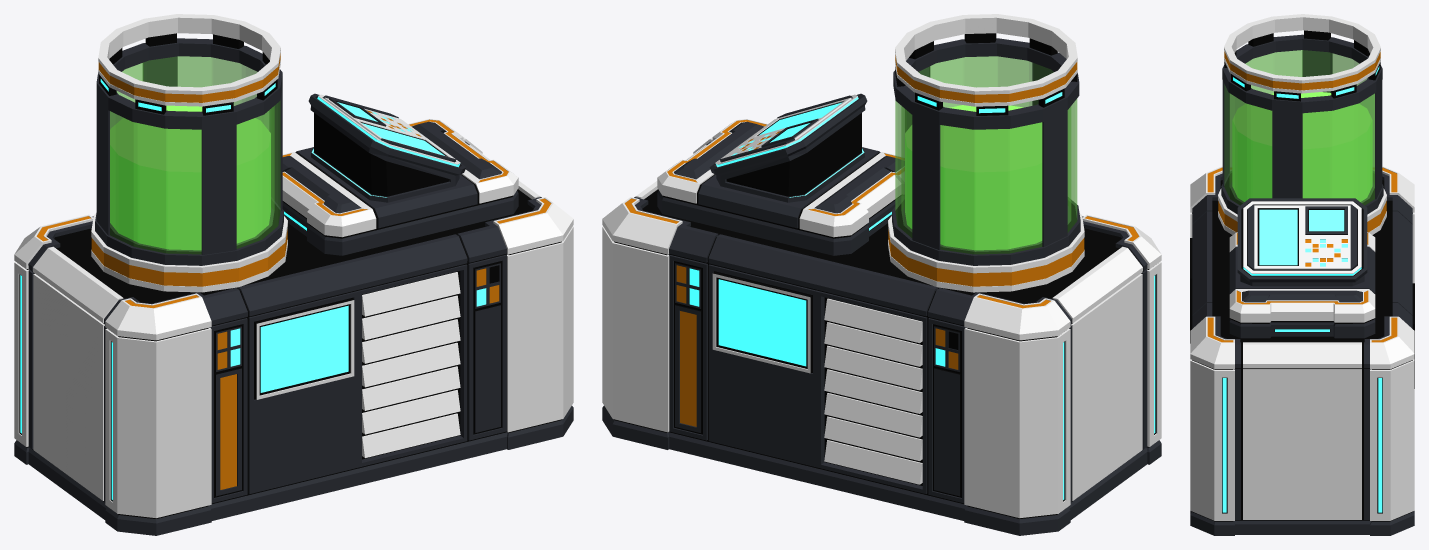
The model's file is SM_BioChem_T1.fbx.
The picture shows the model from 3 angles, left to right: view 1: azimuth 30°, elevation 25°; view 2: azimuth 150°, elevation 25°; view 3: azimuth 270°, elevation 25°; orthographic projection. The views are drawn at different scales.
Parts seen in each view (by area): view 1: SM_BioChem_T1; view 2: SM_BioChem_T1; view 3: SM_BioChem_T1.
Boxes of the visible parts, x1,y1,x2,y2 form: SM_BioChem_T1: [14, 14, 573, 535]; SM_BioChem_T1: [602, 14, 1161, 535]; SM_BioChem_T1: [1190, 14, 1414, 535].
Bounding box in the file's own units: 200 × 172 × 100.
